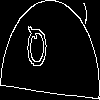Q: (25, 25, 48, 77)
